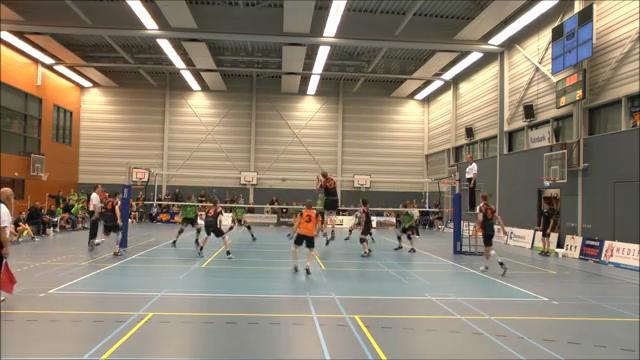attacco: (313, 169, 340, 251)
